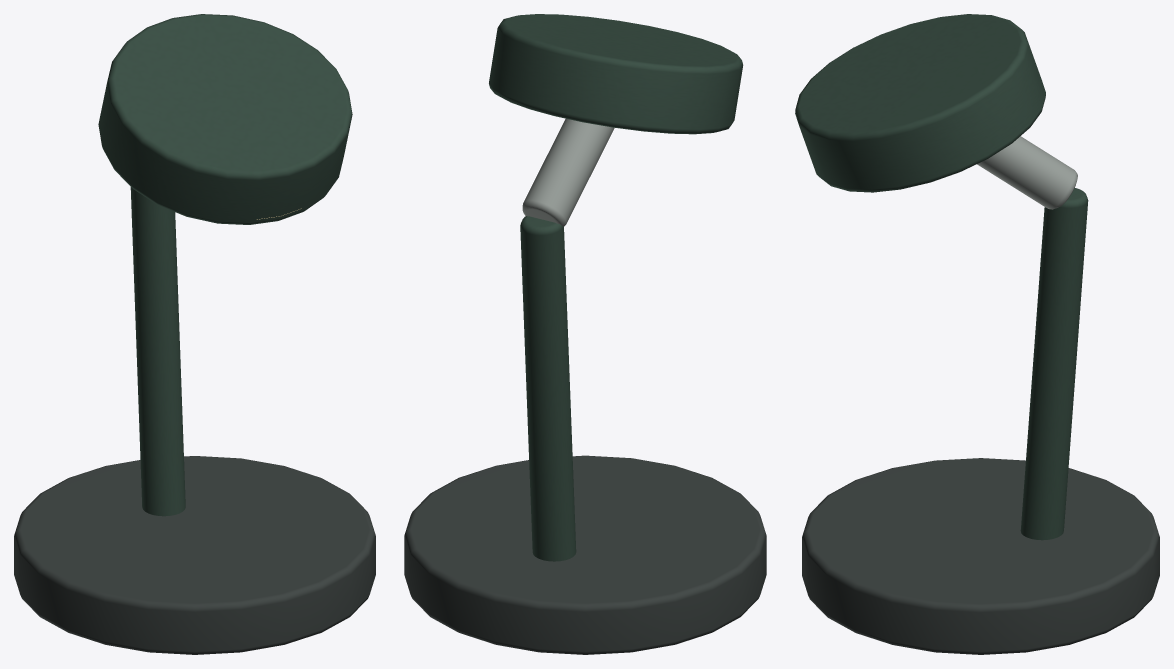
File: Tool_inspection_lamp.fbx
3 views of the same model, side by side, from view 1: azimuth 30°, elevation 25°; view 2: azimuth 150°, elevation 25°; view 3: azimuth 270°, elevation 25° (orthographic).
Visible parts, largest first — view 1: Inspection_Lamp_Base, Inspection_Lamp_Head, Inspection_Lamp_Arm; view 2: Inspection_Lamp_Base, Inspection_Lamp_Head, Inspection_Lamp_Arm, Inspection_Lamp_Neck; view 3: Inspection_Lamp_Base, Inspection_Lamp_Head, Inspection_Lamp_Arm, Inspection_Lamp_Neck.
Boxes of the visible parts, x1,y1,x2,y2 form: Inspection_Lamp_Base: [14, 456, 375, 654]; Inspection_Lamp_Head: [98, 14, 352, 224]; Inspection_Lamp_Arm: [130, 187, 185, 516]; Inspection_Lamp_Base: [404, 455, 766, 654]; Inspection_Lamp_Head: [489, 14, 743, 134]; Inspection_Lamp_Arm: [520, 216, 576, 561]; Inspection_Lamp_Neck: [522, 118, 614, 226]; Inspection_Lamp_Base: [802, 458, 1159, 654]; Inspection_Lamp_Head: [795, 14, 1045, 192]; Inspection_Lamp_Arm: [1020, 188, 1088, 540]; Inspection_Lamp_Neck: [977, 136, 1077, 209].
Size of the model in its own units: 0.166 by 0.2769 by 0.1692.
